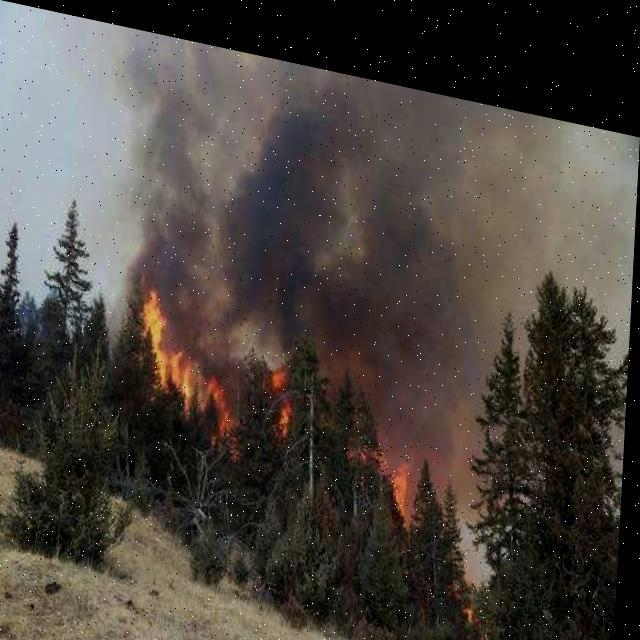Fire: (136, 281, 300, 456), (362, 418, 422, 507), (469, 578, 488, 607)
